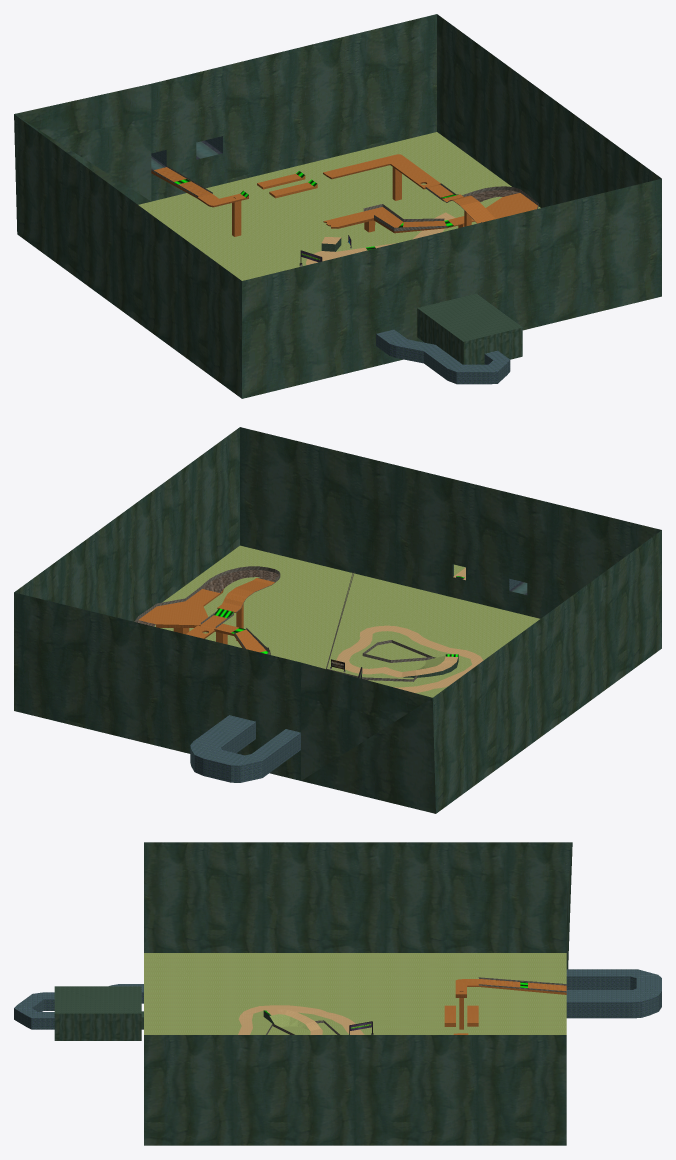
3 views of the same model, one above another, from view 1: azimuth 30°, elevation 25°; view 2: azimuth 150°, elevation 25°; view 3: azimuth 270°, elevation 25° (orthographic). The views are drawn at different scales.
Parts seen in each view (by area): view 1: Untitled-SKP--Material5.047, Untitled-SKP--Vegetation_Grass1, Untitled-SKP--Material4.003, Untitled-SKP--Material7.005, Untitled-SKP--Material2.003, Untitled-SKP--Groundcover_Sand_Smooth, Untitled-SKP--Material4Dark; view 2: Untitled-SKP--Material5.047, Untitled-SKP--Vegetation_Grass1, Untitled-SKP--Material7.005, Untitled-SKP--Material4.003, Untitled-SKP--Groundcover_Sand_Smooth, Untitled-SKP--Material2.003, Untitled-SKP--Yuka-4; view 3: Untitled-SKP--Material5.047, Untitled-SKP--Vegetation_Grass1, Untitled-SKP--Material7.005, Untitled-SKP--Material4.003, Untitled-SKP--Groundcover_Sand_Smooth, Untitled-SKP--Material2.003.
Part boxes in pixels (x1,y1,x2,y2): Untitled-SKP--Material5.047: (14,14,661,398); Untitled-SKP--Vegetation_Grass1: (138,132,540,280); Untitled-SKP--Material4.003: (154,154,537,236); Untitled-SKP--Material7.005: (151,136,510,384); Untitled-SKP--Material2.003: (151,166,538,231); Untitled-SKP--Groundcover_Sand_Smooth: (306,212,455,265); Untitled-SKP--Material4Dark: (151,164,474,233); Untitled-SKP--Material5.047: (14,427,661,813); Untitled-SKP--Vegetation_Grass1: (154,545,539,697); Untitled-SKP--Material7.005: (190,578,521,782); Untitled-SKP--Material4.003: (138,578,274,652); Untitled-SKP--Groundcover_Sand_Smooth: (336,567,483,692); Untitled-SKP--Material2.003: (134,566,435,681); Untitled-SKP--Yuka-4: (137,569,279,626); Untitled-SKP--Material5.047: (54,842,572,1145); Untitled-SKP--Vegetation_Grass1: (144,953,566,1034); Untitled-SKP--Material7.005: (14,969,661,1029); Untitled-SKP--Material4.003: (444,979,566,1034); Untitled-SKP--Groundcover_Sand_Smooth: (238,1005,364,1034); Untitled-SKP--Material2.003: (266,977,566,1034).
Bounding box in the file's own units: 94418 × 25356 × 134311.
19 materials, 19 textured.
